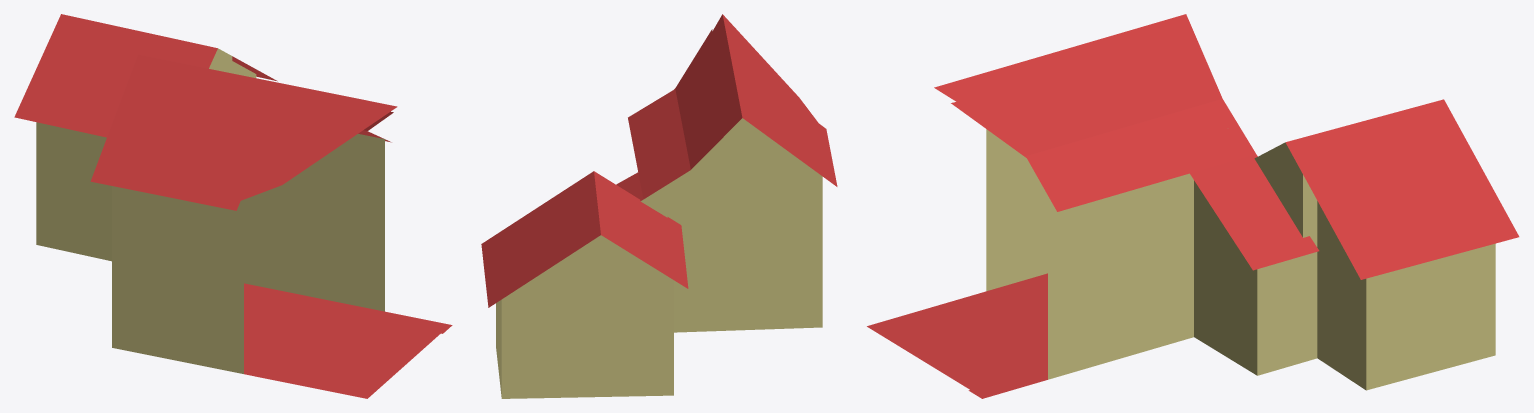
The picture shows the model from 3 angles, left to right: view 1: azimuth 30°, elevation 25°; view 2: azimuth 150°, elevation 25°; view 3: azimuth 270°, elevation 25°; orthographic projection. The views are drawn at different scales.
Size of the model in its own units: 16.08 by 28.29 by 12.95.
